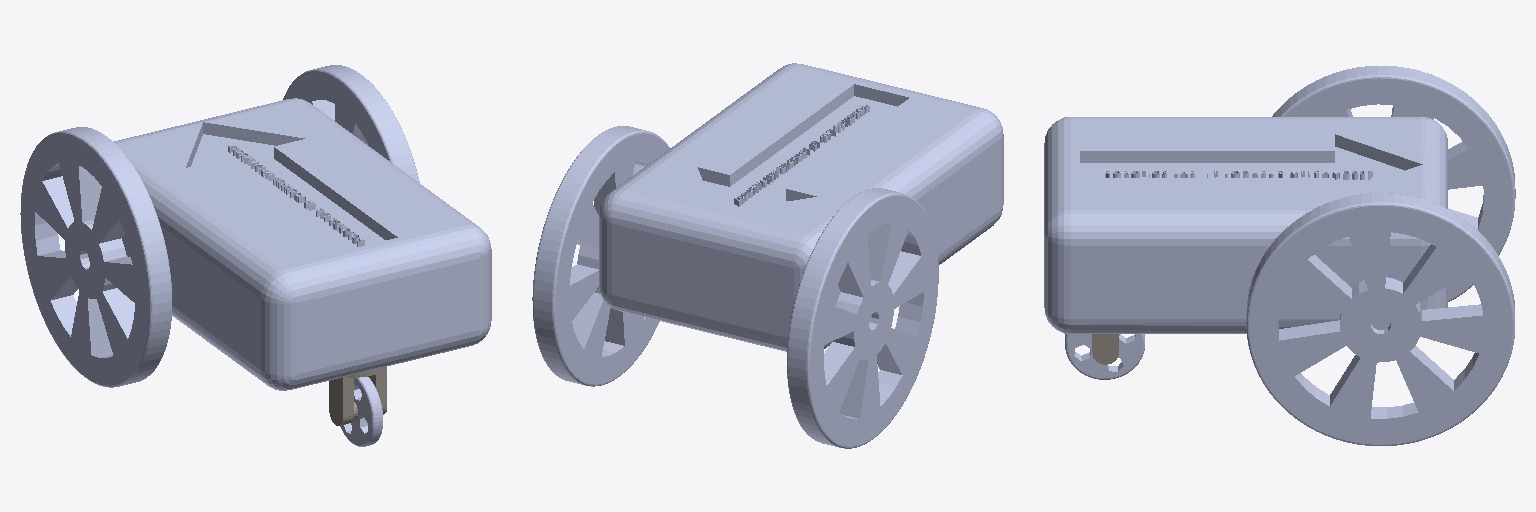
robot.urdf — Mobile Robot:
<?xml version="1.0" encoding="utf-8"?>
<!-- This URDF was automatically created by SolidWorks to URDF Exporter! Originally created by [author] ([email redacted]) 
     Commit Version: 1.5.1-0-g916b5db  Build Version: 1.5.7152.31018
     For more information, please see http://wiki.ros.org/sw_urdf_exporter -->
<robot
  name="Mobile Robot">
  <link
    name="Body">
    <inertial>
      <origin
        xyz="0.0932818046123113 0.148035881432924 0.248622421419087"
        rpy="0 0 0" />
      <mass
        value="5.68536204419266" />
      <inertia
        ixx="0.0461012423919062"
        ixy="-1.6217016798956E-07"
        ixz="-2.44900119206539E-08"
        iyy="0.0603619757567182"
        iyz="-1.99379837902658E-05"
        izz="0.0230236988866696" />
    </inertial>
    <visual>
      <origin
        xyz="0 0 0"
        rpy="0 0 0" />
      <geometry>
        <mesh
          filename="package://Mobile Robot/meshes/Body.STL" />
      </geometry>
      <material
        name="">
        <color
          rgba="0.792156862745098 0.819607843137255 0.933333333333333 1" />
      </material>
    </visual>
    <collision>
      <origin
        xyz="0 0 0"
        rpy="0 0 0" />
      <geometry>
        <mesh
          filename="package://Mobile Robot/meshes/Body.STL" />
      </geometry>
    </collision>
  </link>
  <link
    name="Right_wheel">
    <inertial>
      <origin
        xyz="-4.0728E-05 -0.01 0.00017127"
        rpy="0 0 0" />
      <mass
        value="0.45892" />
      <inertia
        ixx="0.0013018"
        ixy="-3.8745E-19"
        ixz="1.1691E-06"
        iyy="0.0025685"
        iyz="6.8664E-22"
        izz="0.0012971" />
    </inertial>
    <visual>
      <origin
        xyz="0 0 0"
        rpy="0 0 0" />
      <geometry>
        <mesh
          filename="package://Mobile Robot/meshes/Right_wheel.STL" />
      </geometry>
      <material
        name="">
        <color
          rgba="0.79216 0.81961 0.93333 1" />
      </material>
    </visual>
    <collision>
      <origin
        xyz="0 0 0"
        rpy="0 0 0" />
      <geometry>
        <mesh
          filename="package://Mobile Robot/meshes/Right_wheel.STL" />
      </geometry>
    </collision>
  </link>
  <joint
    name="Right_joint"
    type="continuous">
    <origin
      xyz="0.19528 -0.14862 0.12408"
      rpy="0 -0.79207 1.5708" />
    <parent
      link="Body" />
    <child
      link="Right_wheel" />
    <axis
      xyz="0 1 0" />
  </joint>
  <link
    name="Left_wheel">
    <inertial>
      <origin
        xyz="-4.0728E-05 -0.01 0.00017127"
        rpy="0 0 0" />
      <mass
        value="0.45892" />
      <inertia
        ixx="0.0013018"
        ixy="-5.8747E-20"
        ixz="1.1691E-06"
        iyy="0.0025685"
        iyz="-8.7265E-20"
        izz="0.0012971" />
    </inertial>
    <visual>
      <origin
        xyz="0 0 0"
        rpy="0 0 0" />
      <geometry>
        <mesh
          filename="package://Mobile Robot/meshes/Left_wheel.STL" />
      </geometry>
      <material
        name="">
        <color
          rgba="0.79216 0.81961 0.93333 1" />
      </material>
    </visual>
    <collision>
      <origin
        xyz="0 0 0"
        rpy="0 0 0" />
      <geometry>
        <mesh
          filename="package://Mobile Robot/meshes/Left_wheel.STL" />
      </geometry>
    </collision>
  </link>
  <joint
    name="Left_joint"
    type="continuous">
    <origin
      xyz="-0.0087188 -0.14862 0.12408"
      rpy="3.1416 -1.2295 1.5708" />
    <parent
      link="Body" />
    <child
      link="Left_wheel" />
    <axis
      xyz="0 -1 0" />
  </joint>
  <link
    name="Front_wheel_holder">
    <inertial>
      <origin
        xyz="-0.0026796 -0.034448 -2.3592E-16"
        rpy="0 0 0" />
      <mass
        value="0.038502" />
      <inertia
        ixx="1.8455E-05"
        ixy="1.3766E-06"
        ixz="4.574E-20"
        iyy="1.1036E-05"
        iyz="-1.2493E-20"
        izz="1.5173E-05" />
    </inertial>
    <visual>
      <origin
        xyz="0 0 0"
        rpy="0 0 0" />
      <geometry>
        <mesh
          filename="package://Mobile Robot/meshes/Front_wheel_holder.STL" />
      </geometry>
      <material
        name="">
        <color
          rgba="0.64706 0.61961 0.58824 1" />
      </material>
    </visual>
    <collision>
      <origin
        xyz="0 0 0"
        rpy="0 0 0" />
      <geometry>
        <mesh
          filename="package://Mobile Robot/meshes/Front_wheel_holder.STL" />
      </geometry>
    </collision>
  </link>
  <joint
    name="Wheel_holder to Body"
    type="continuous">
    <origin
      xyz="0.093281 -0.34862 0.044222"
      rpy="-1.5708 0 1.5978" />
    <parent
      link="Body" />
    <child
      link="Front_wheel_holder" />
    <axis
      xyz="0 1 0" />
  </joint>
  <link
    name="Front_wheel">
    <inertial>
      <origin
        xyz="0 0 0"
        rpy="0 0 0" />
      <mass
        value="0.021305" />
      <inertia
        ixx="5.5317E-06"
        ixy="4.5793E-21"
        ixz="-5.294E-21"
        iyy="1.0716E-05"
        iyz="2.283E-21"
        izz="5.5317E-06" />
    </inertial>
    <visual>
      <origin
        xyz="0 0 0"
        rpy="0 0 0" />
      <geometry>
        <mesh
          filename="package://Mobile Robot/meshes/Front_wheel.STL" />
      </geometry>
      <material
        name="">
        <color
          rgba="0.79216 0.81961 0.93333 1" />
      </material>
    </visual>
    <collision>
      <origin
        xyz="0 0 0"
        rpy="0 0 0" />
      <geometry>
        <mesh
          filename="package://Mobile Robot/meshes/Front_wheel.STL" />
      </geometry>
    </collision>
  </link>
  <joint
    name="Front_wheel to holder"
    type="continuous">
    <origin
      xyz="-0.005 -0.0098561 0"
      rpy="-1.5708 0 -0.39471" />
    <parent
      link="Front_wheel_holder" />
    <child
      link="Front_wheel" />
    <axis
      xyz="0 1 0" />
  </joint>
</robot>

--- Render facts (derived) ---
Views: 3 orthographic renders of the robot side by side, from view 1: azimuth 30°, elevation 25°; view 2: azimuth 150°, elevation 25°; view 3: azimuth 270°, elevation 25°.
Model Mobile Robot with 5 links and 4 joints (4 continuous), rooted at Body, posed all joints at 0.
Links seen in each view (by area): view 1: Body, Left_wheel, Right_wheel, Front_wheel, Front_wheel_holder; view 2: Body, Left_wheel, Right_wheel; view 3: Body, Right_wheel, Left_wheel, Front_wheel, Front_wheel_holder.
Boxes of the visible links, x1,y1,x2,y2 form: Body: [88, 98, 491, 390]; Left_wheel: [20, 127, 171, 387]; Right_wheel: [283, 65, 419, 182]; Front_wheel: [340, 377, 382, 446]; Front_wheel_holder: [329, 367, 386, 425]; Body: [599, 63, 1003, 351]; Left_wheel: [787, 188, 938, 448]; Right_wheel: [532, 126, 669, 386]; Body: [1044, 117, 1447, 333]; Right_wheel: [1246, 193, 1514, 445]; Left_wheel: [1272, 66, 1515, 301]; Front_wheel: [1065, 334, 1144, 379]; Front_wheel_holder: [1092, 334, 1118, 364].
Bounding box of the posed robot: 0.244 × 0.35 × 0.2 m (x, y, z).
5 mesh visuals loaded from 5 distinct referenced files (5 binary STL).